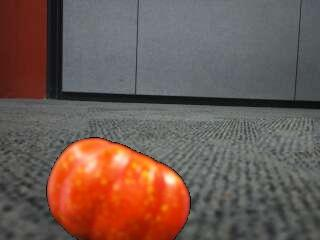Pumpkin: (49, 138, 190, 240)
